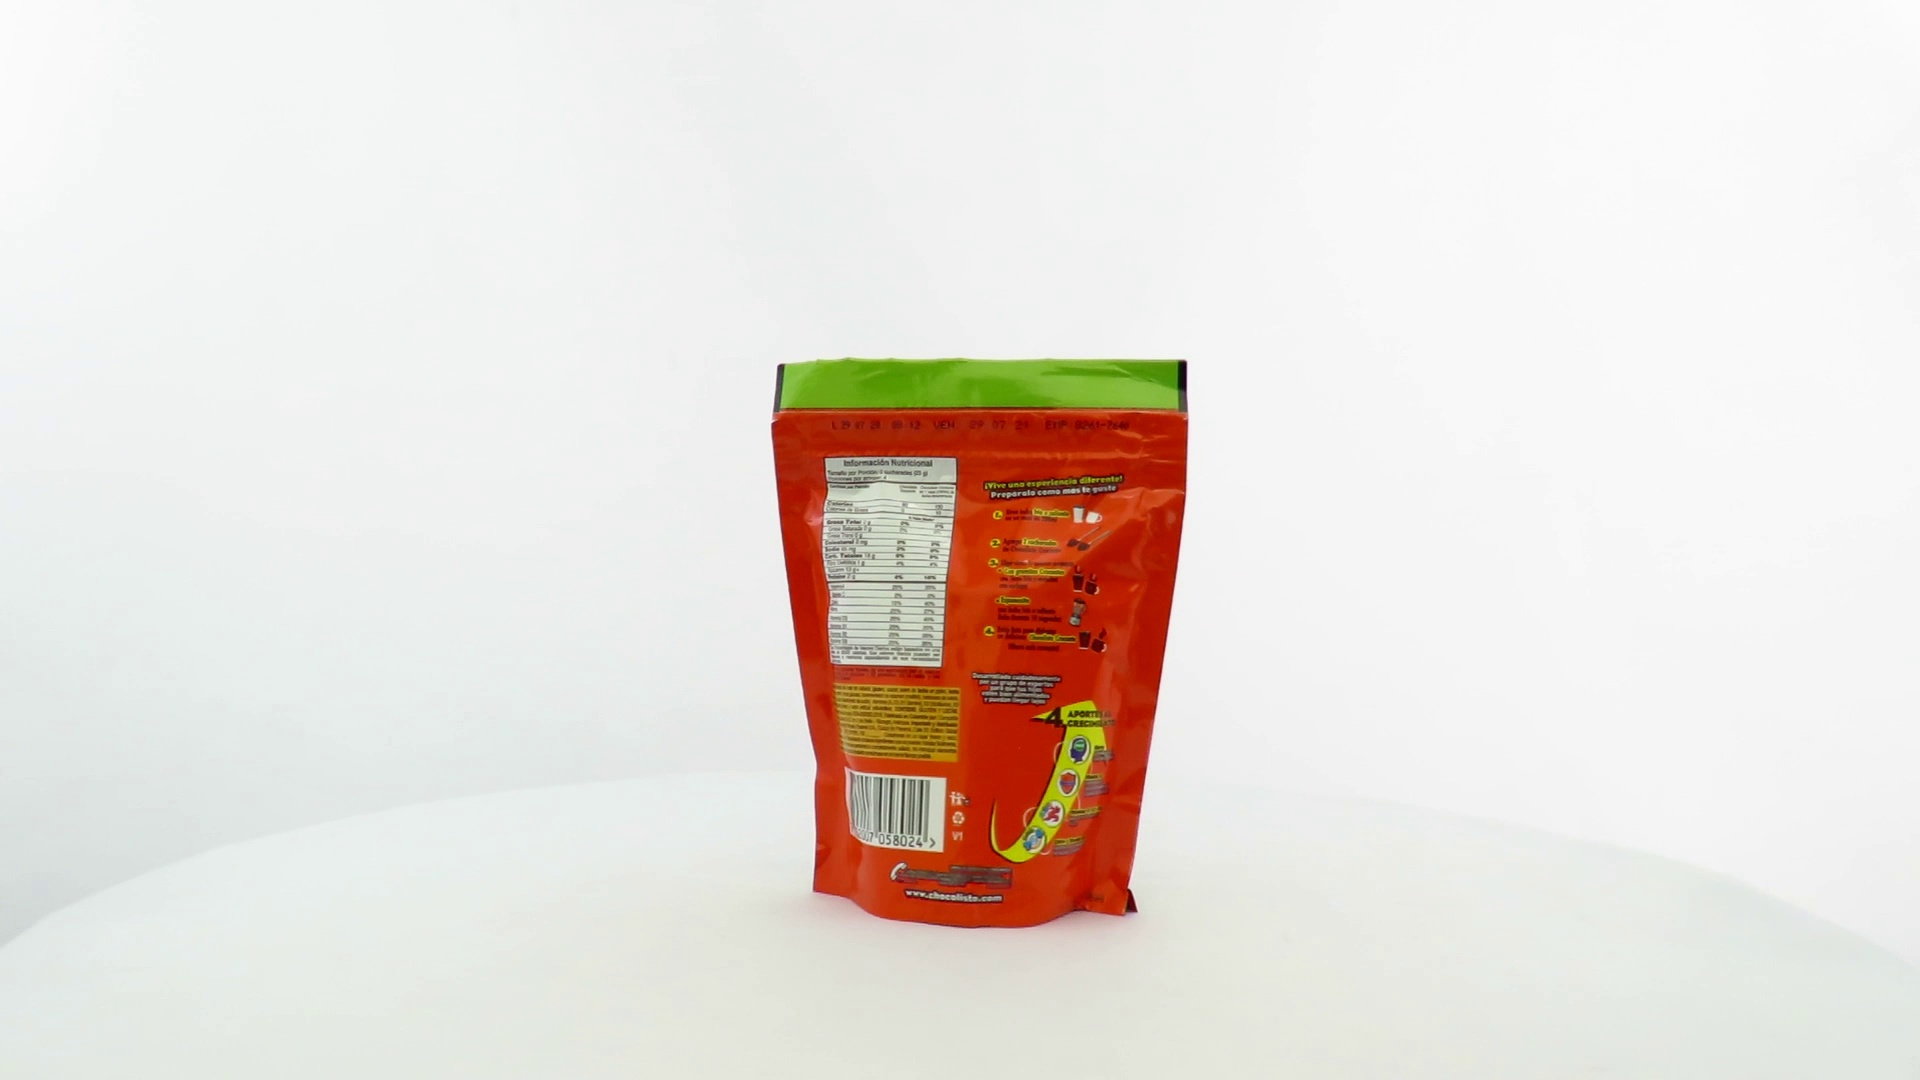COL0170102DYP10000: (766, 352, 1195, 935)
